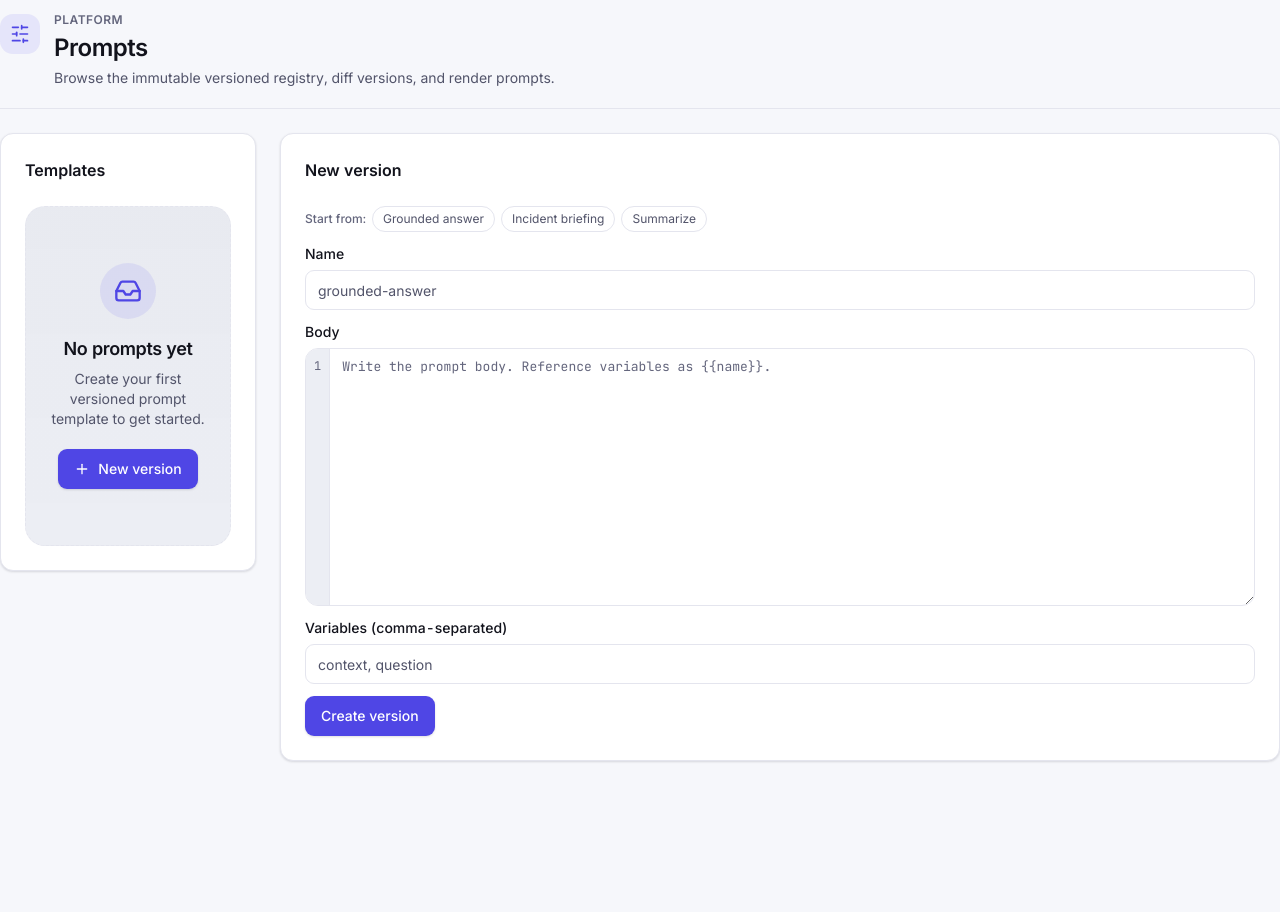
Test: PromptRegistryView (MSW) › creates a version (gated) and shows the returned number (12.4)
The image size is (1280, 912).
Expected: the form with test id "create-version-form" is shown, [305, 206, 1255, 736]
Type "greeting" into the field with test id "prompt-name" at [780, 290], box [305, 270, 1255, 310]
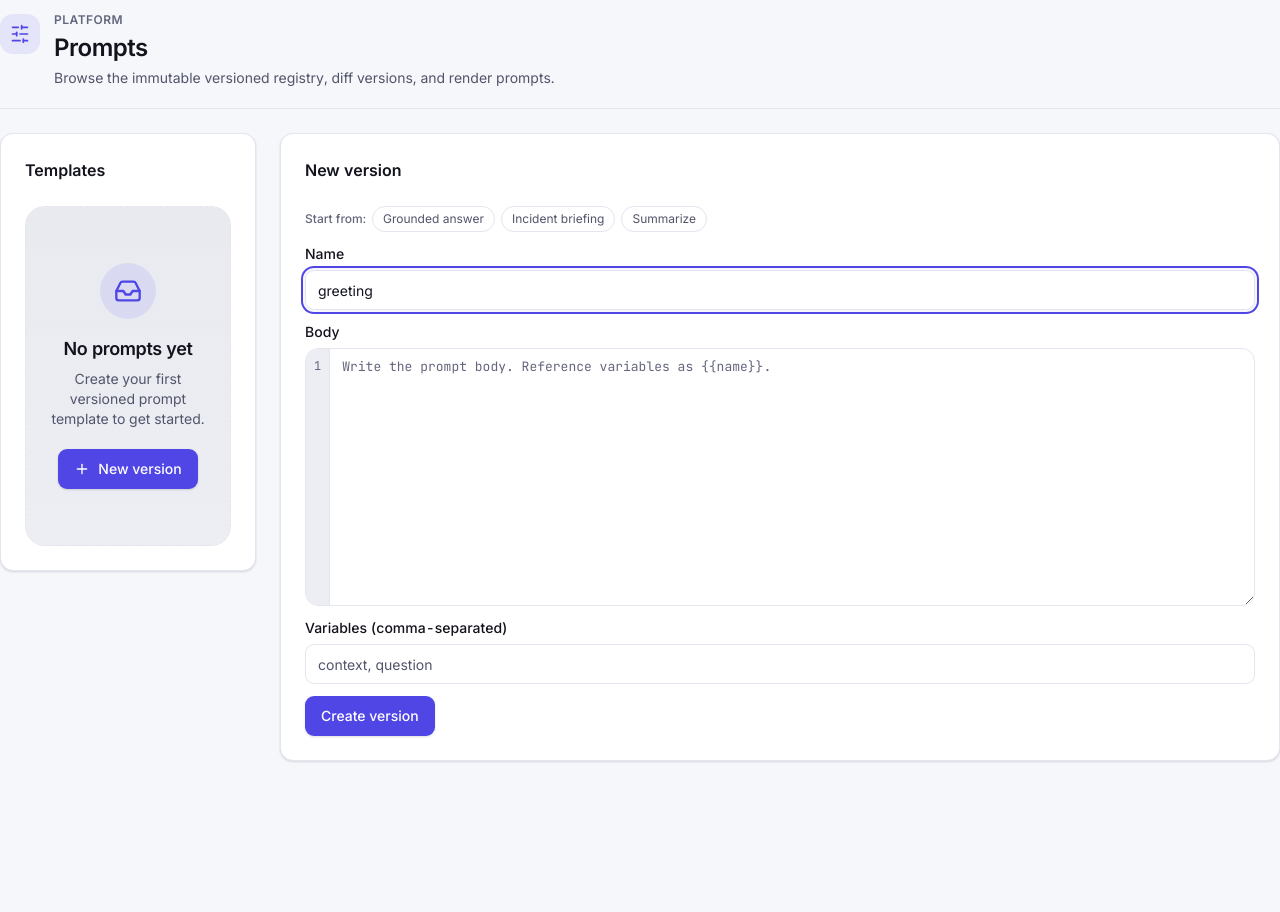
Type "name" into the field with test id "prompt-variables" at [780, 664], box [305, 644, 1255, 684]
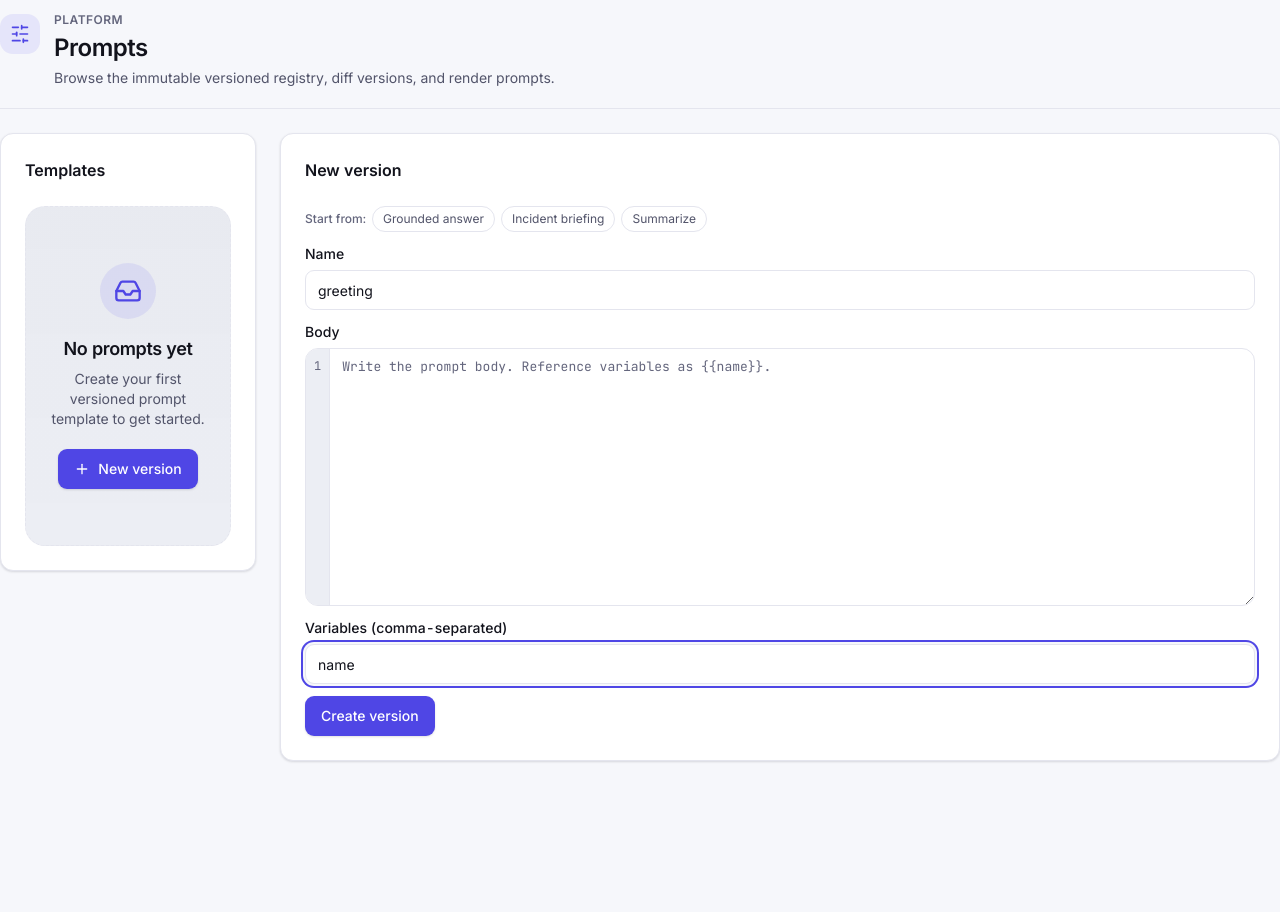
Click the button with test id "create-version-submit" at [370, 716], box [305, 696, 435, 736]
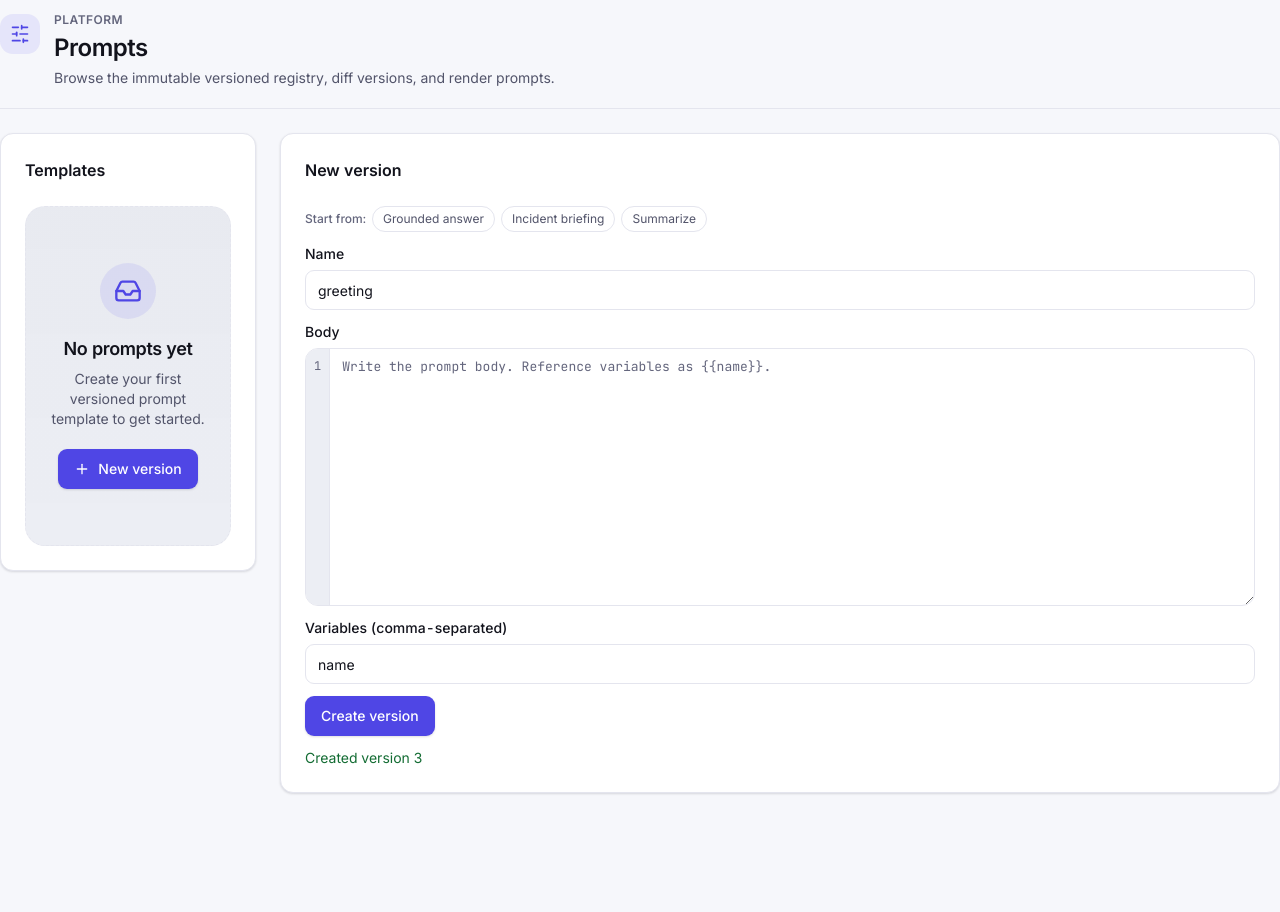
Result: the text with test id "create-version-result" shows "3" at [414, 749, 423, 766]
